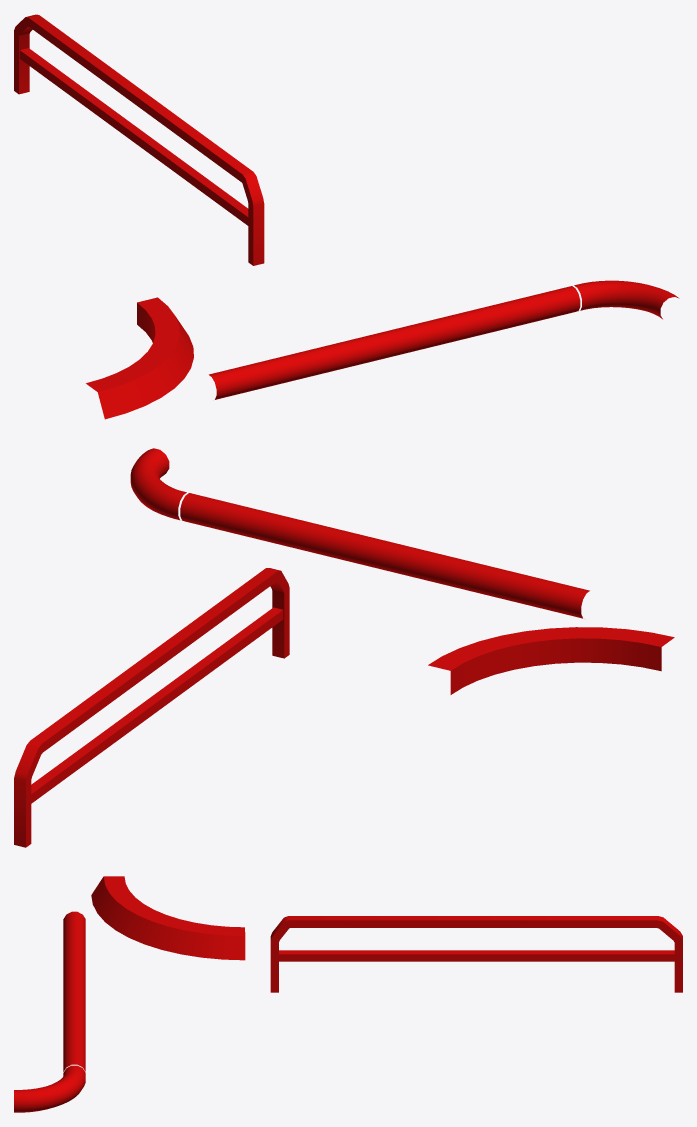
3 renders of one model, top to bottom at view 1: azimuth 30°, elevation 25°; view 2: azimuth 150°, elevation 25°; view 3: azimuth 270°, elevation 25°, orthographic. The views are drawn at different scales.
Parts seen in each view (by area): view 1: Mesh; view 2: Mesh; view 3: Mesh.
Boxes of the visible parts, x1,y1,x2,y2 form: Mesh: (14,14,679,419); Mesh: (14,448,674,847); Mesh: (14,876,682,1112).
Bounding box in the file's own units: 5.15 × 0.916 × 6.49.
